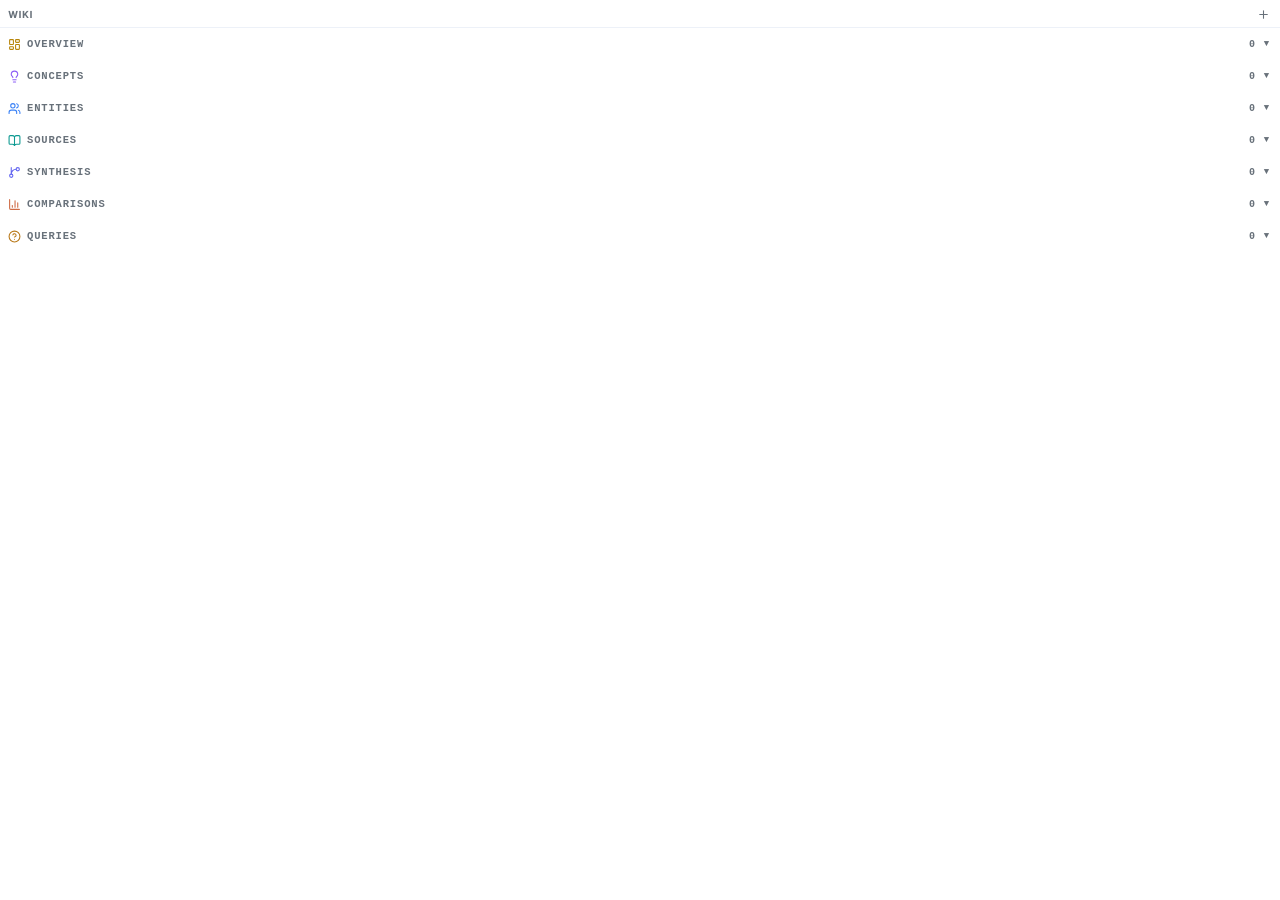
Test: NavTree — R7-2 New page modal › opens modal on + click
What coordinates should you click on to do the following:
click the button with test id "nav-tree-new-page-btn"
I would click on:
 (1264, 14)
Its box is [1255,6,1272,23].
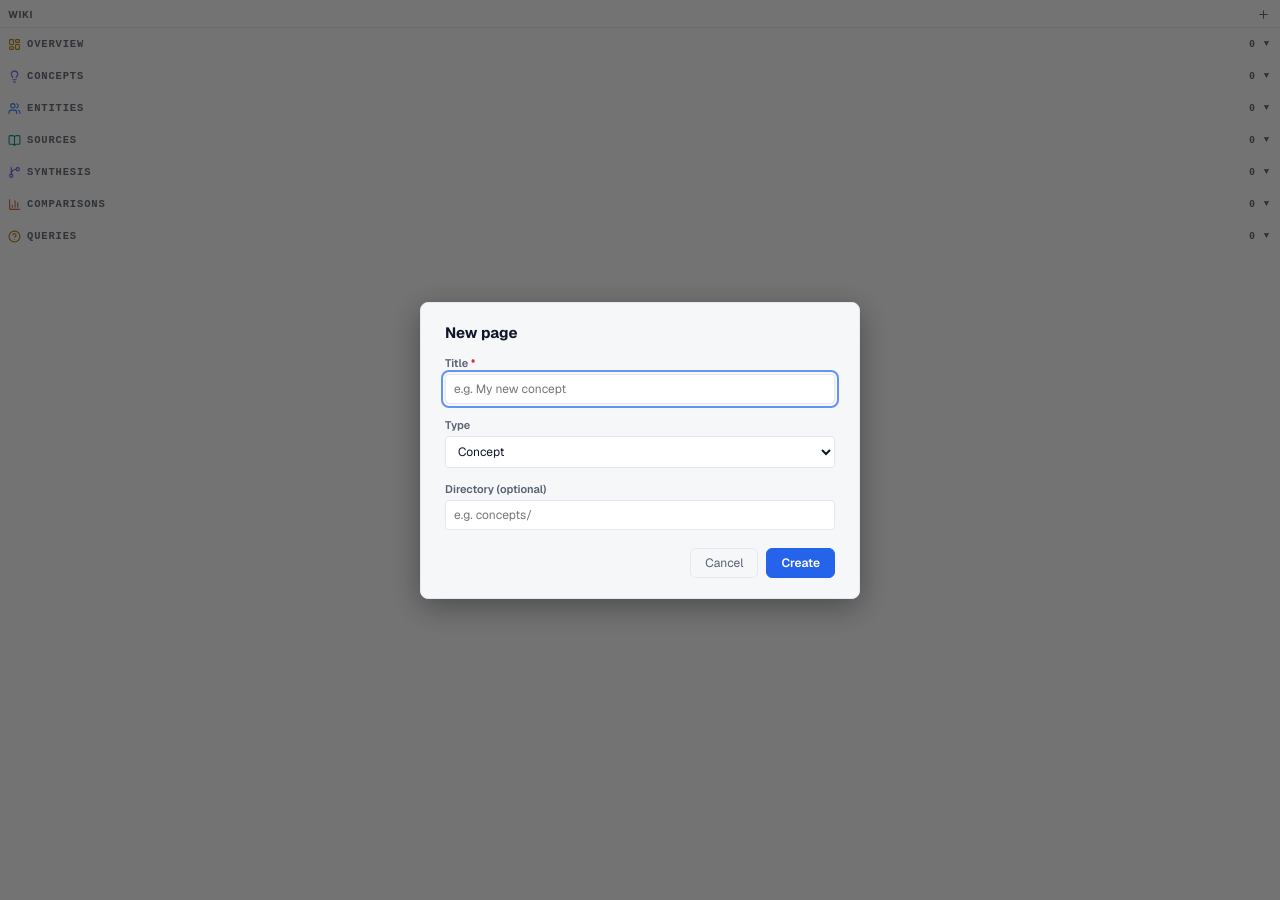
Expected: the heading "New page" is shown, [445,322,518,342]
